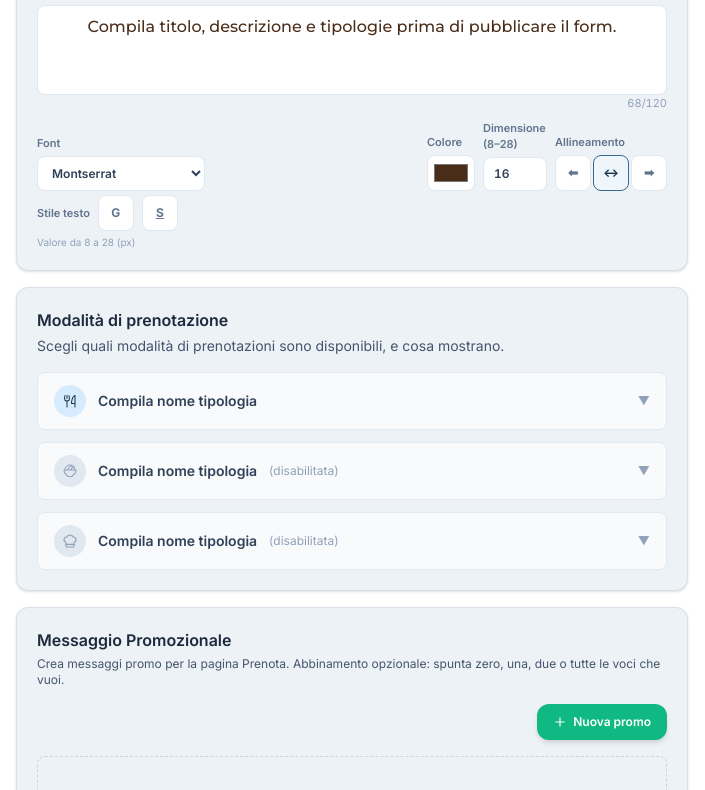
Scenario: settings-carousel-crud — crea carosello in admin › un solo carosello per modalità: secondo + Carosello non compare se già presente
(page scrolled)
What coordinates should you click on to do the following:
click the button "Compila nome tipologia ▼"
I would click on:
 (70, 401)
Its box is [38,373,666,429].
(page scrolled)
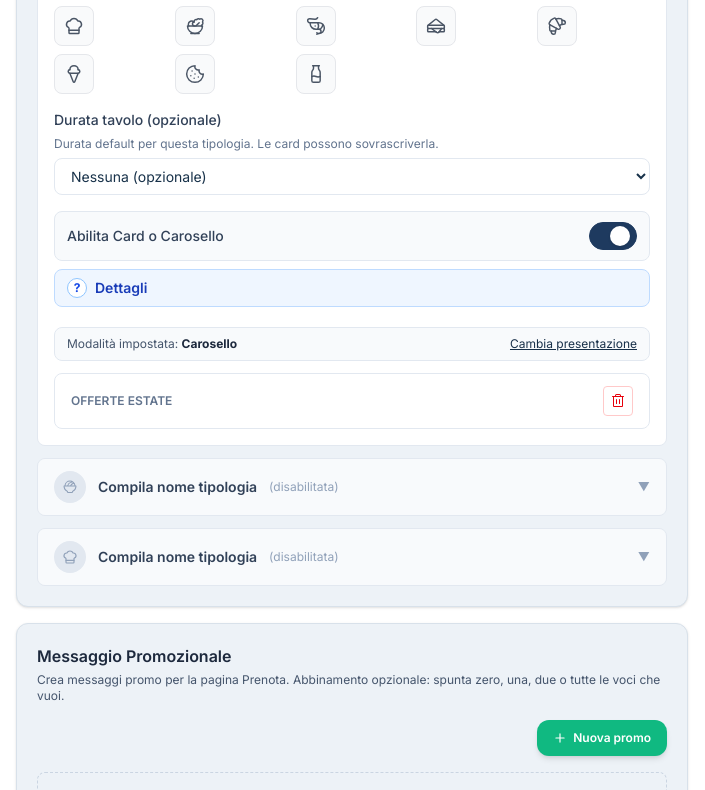
Expected: the text "Abilita Card o Carosello" is shown, [67,226,224,246]
Expected: the text "Offerte estate" is shown, [71,393,172,408]
